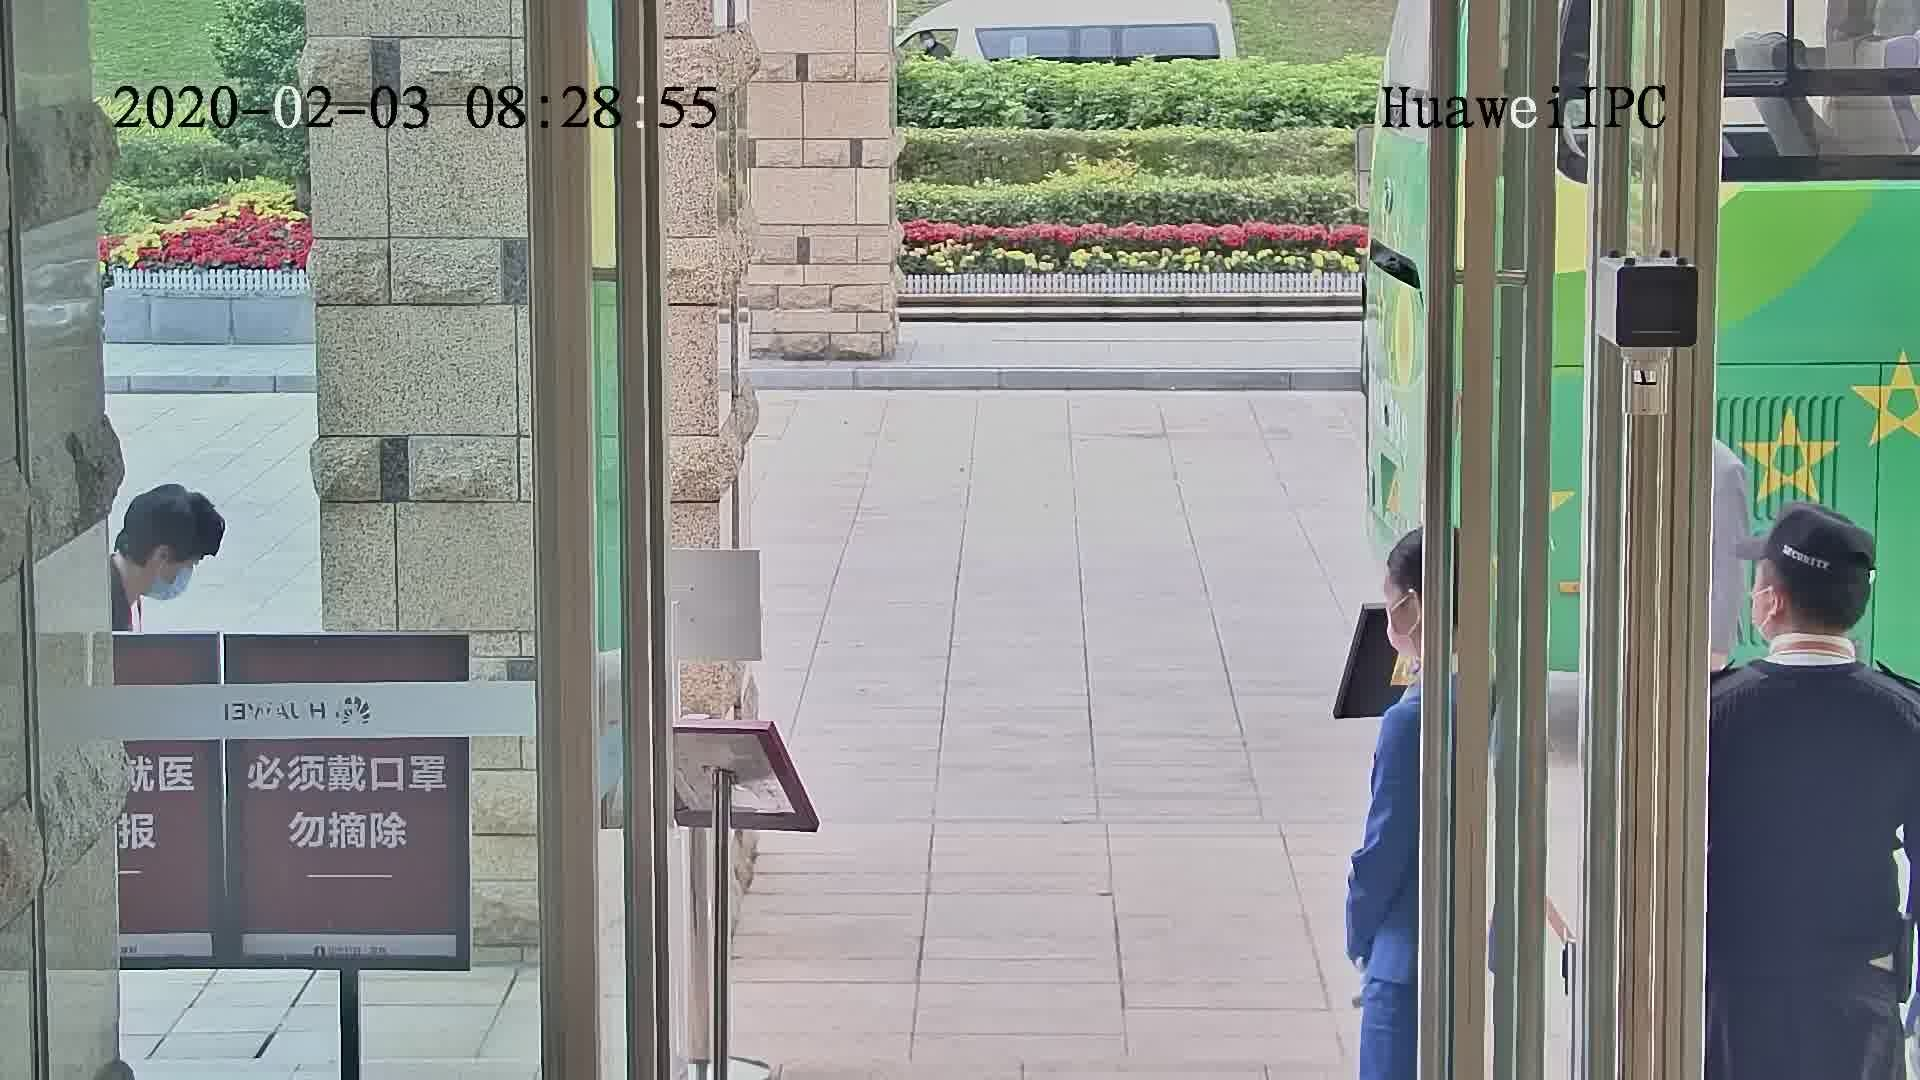face: (156, 551, 209, 609)
mask: (156, 553, 200, 609)
person: (1712, 504, 1916, 773), (82, 476, 232, 632), (1351, 529, 1433, 740)
